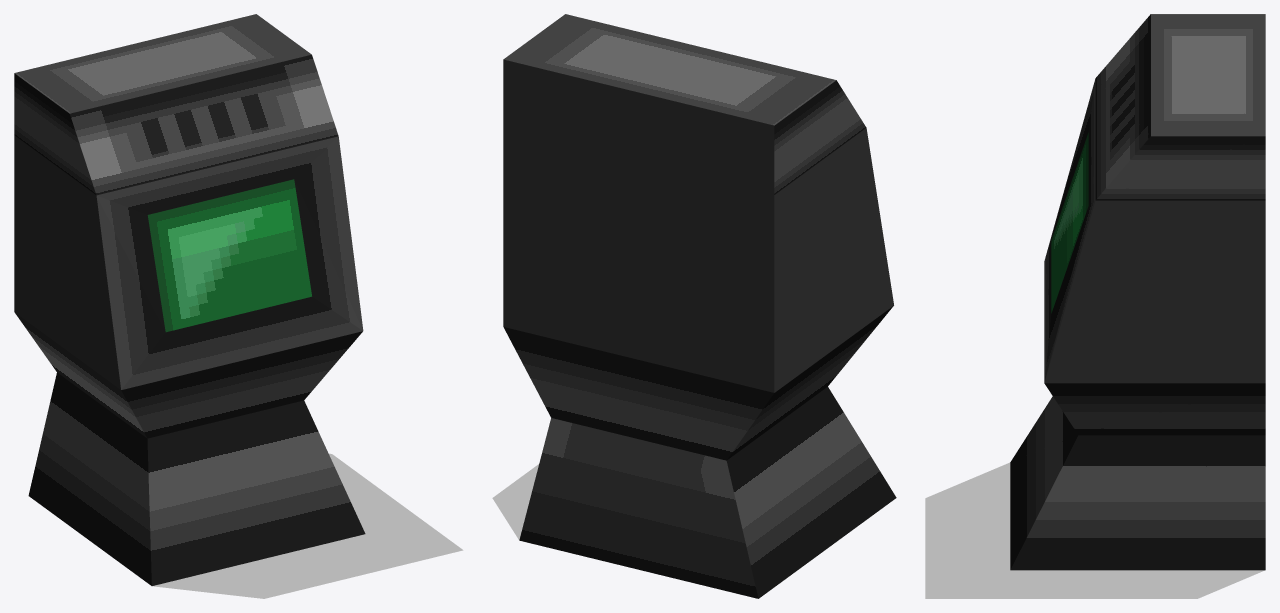
The picture shows the model from 3 angles, left to right: view 1: azimuth 30°, elevation 25°; view 2: azimuth 150°, elevation 25°; view 3: azimuth 270°, elevation 25°; orthographic projection. The views are drawn at different scales.
Visible parts, largest first — view 1: polygon0, polygon1; view 2: polygon0, polygon1; view 3: polygon0, polygon1.
Boxes of the visible parts, x1,y1,x2,y2 form: polygon0: (14, 14, 365, 585); polygon1: (152, 453, 463, 598); polygon0: (503, 14, 896, 598); polygon1: (492, 464, 538, 539); polygon0: (1010, 14, 1265, 570); polygon1: (925, 462, 1264, 598).
Size of the model in its own units: 5 by 7.15 by 5.
